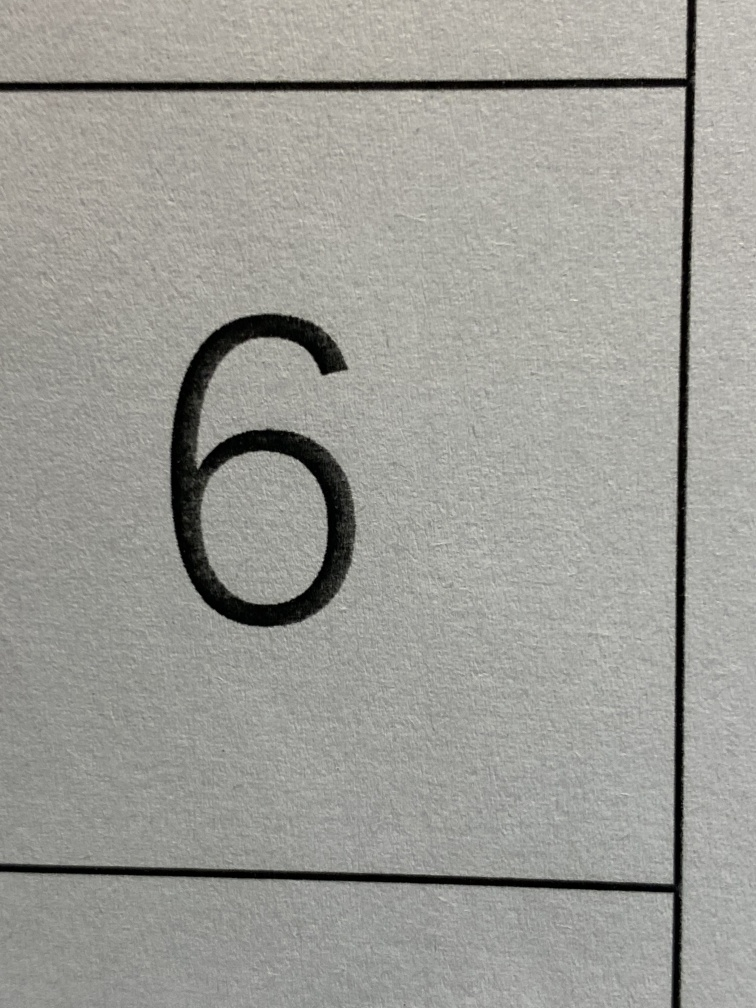six: (114, 257, 431, 662)
